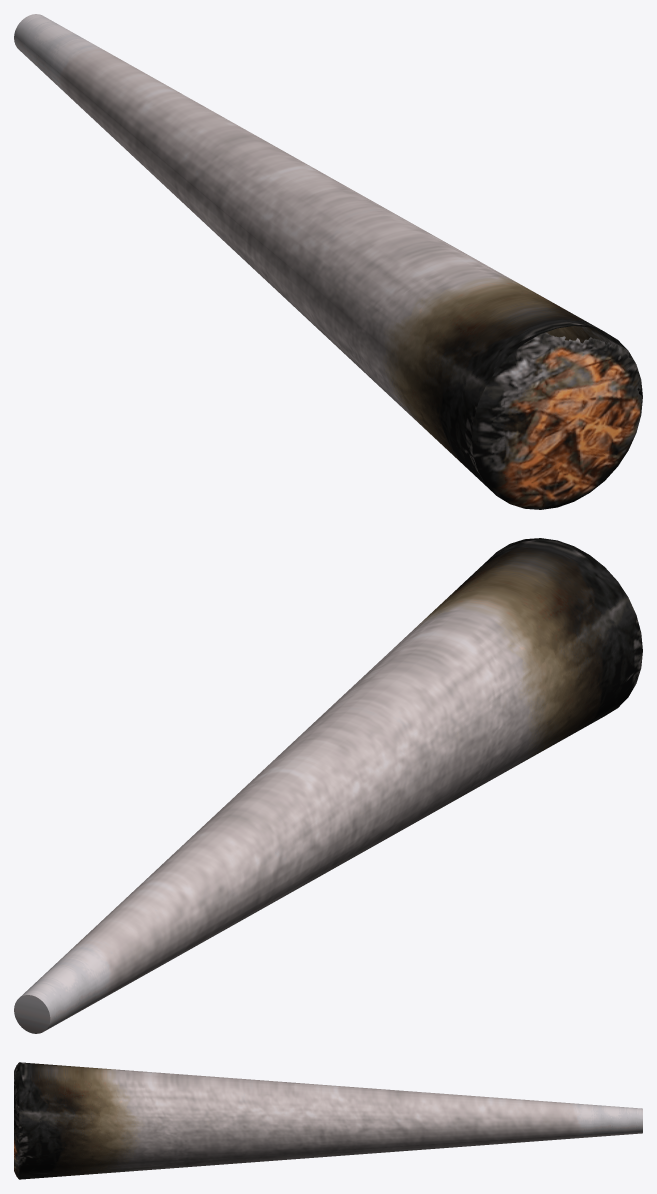
The model's file is blunt_animated.fbx.
3 views of the same model, one above another, from view 1: azimuth 30°, elevation 25°; view 2: azimuth 150°, elevation 25°; view 3: azimuth 270°, elevation 25° (orthographic). The views are drawn at different scales.
Parts seen in each view (by area): view 1: Blunt; view 2: Blunt; view 3: Blunt.
Part boxes in pixels (left/top/right/bottom): Blunt: left=14, top=14, right=642, bottom=509; Blunt: left=14, top=538, right=642, bottom=1033; Blunt: left=14, top=1062, right=642, bottom=1179.
Bounding box in the file's own units: 170 × 170 × 909.
Materials: 1 (1 with a texture image).
